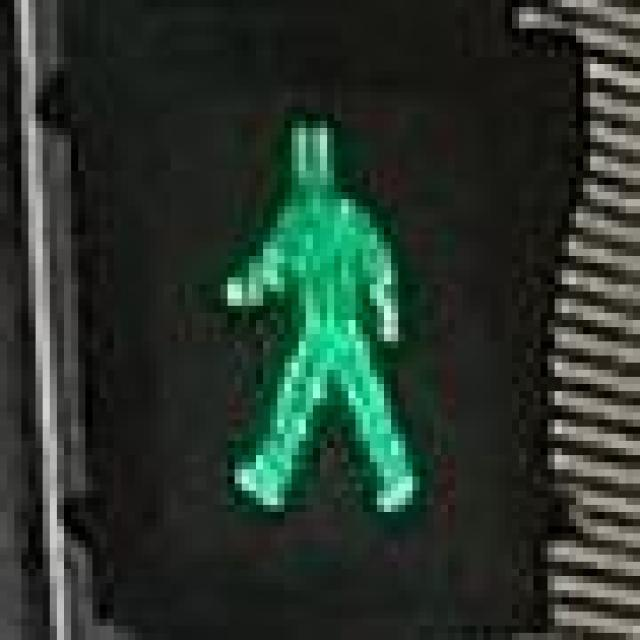green_light: (199, 100, 434, 526)
